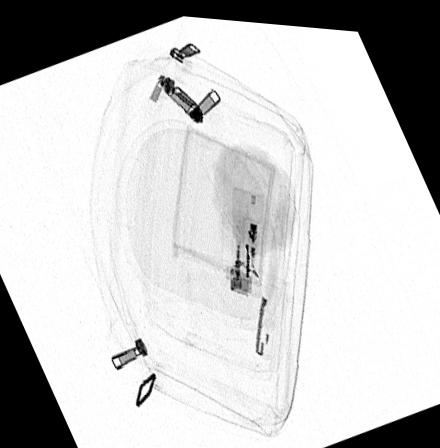Lighter: (230, 181, 263, 292)
